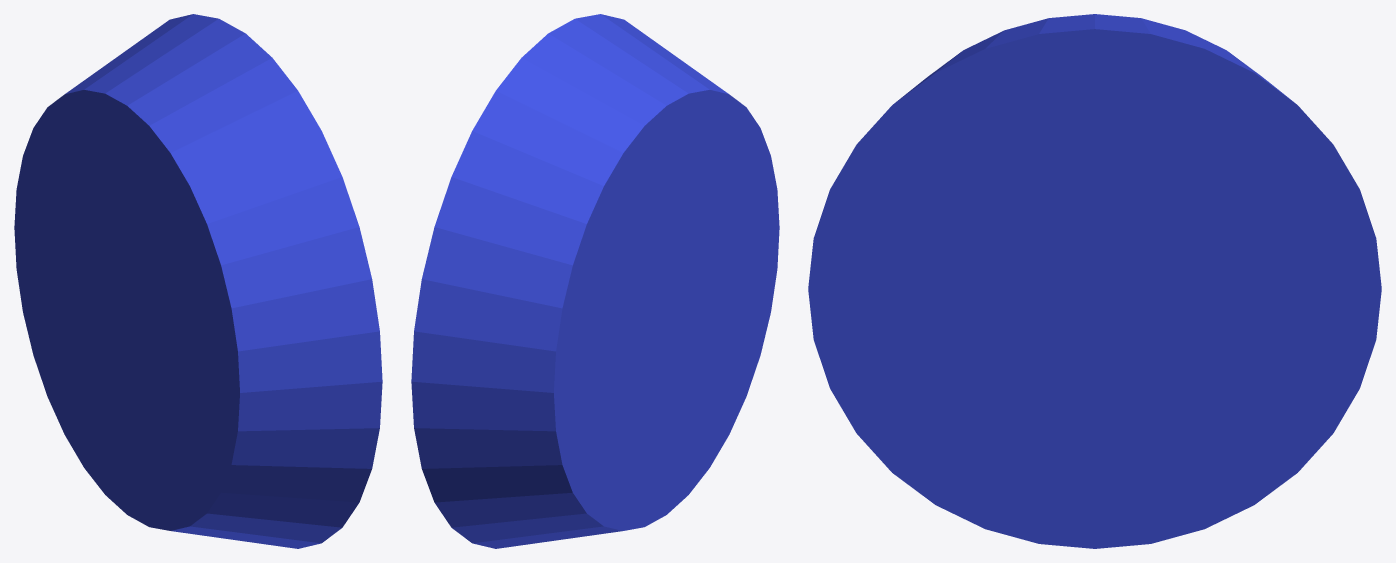
The model's file is blue_button.glb.
The picture shows the model from 3 angles, left to right: view 1: azimuth 30°, elevation 25°; view 2: azimuth 150°, elevation 25°; view 3: azimuth 270°, elevation 25°; orthographic projection. The views are drawn at different scales.
Parts seen in each view (by area): view 1: blue_button; view 2: blue_button; view 3: blue_button.
Boxes of the visible parts, x1,y1,x2,y2 form: blue_button: (14,14,382,548); blue_button: (411,14,779,548); blue_button: (808,14,1381,548).
Bounding box in the file's own units: 0.125 × 0.5 × 0.5.
